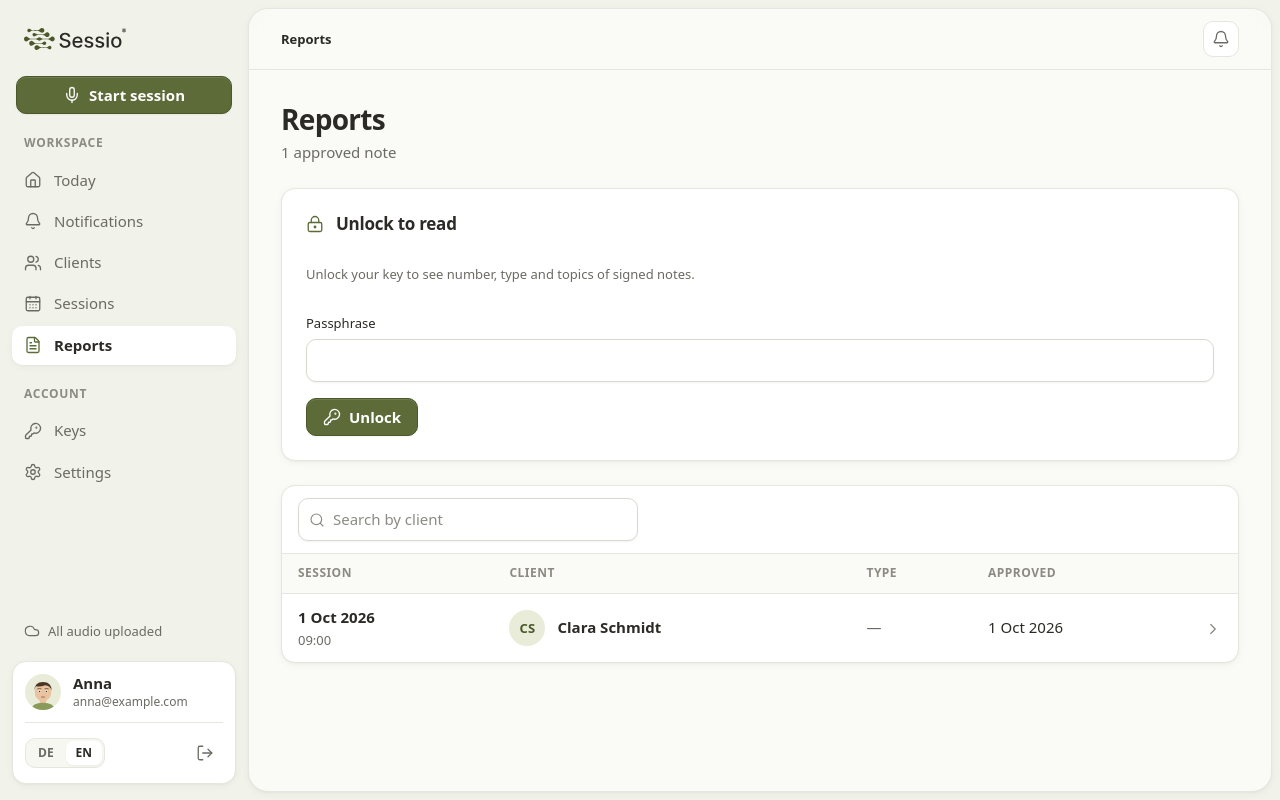
reports page › shows number, type and topics of a signed note only after unlocking
The width and height of the screenshot is (1280, 800).
Expected: the text "—" is shown, 850,593 -> 972,662
Expected: the text "Unlock your key to see number, type and topics" is shown, 306,264 -> 695,282
Step 1. Type "olive tree quiet harbour" into the password field labelled "Passphrase" → (760, 360), box 306,339 -> 1214,382
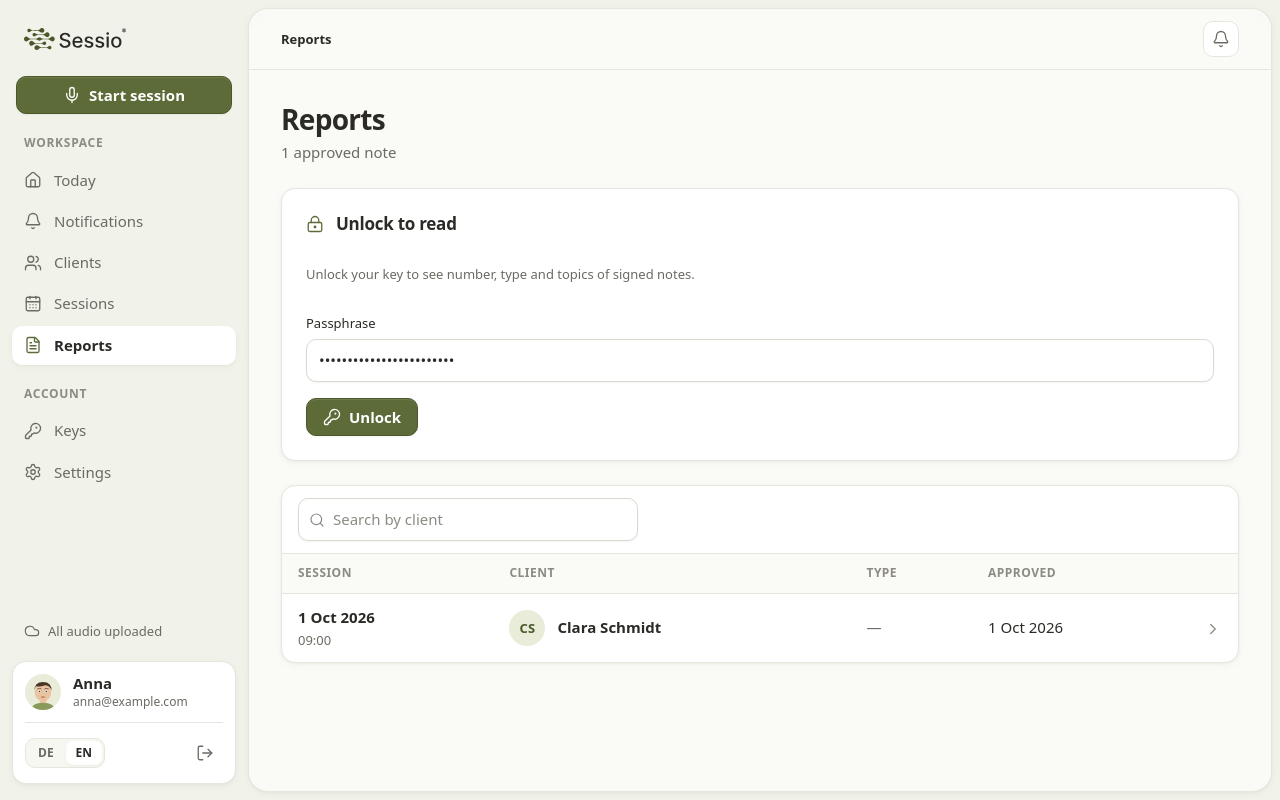
Step 2. Click the button "Unlock" → (362, 417), box 306,398 -> 418,436
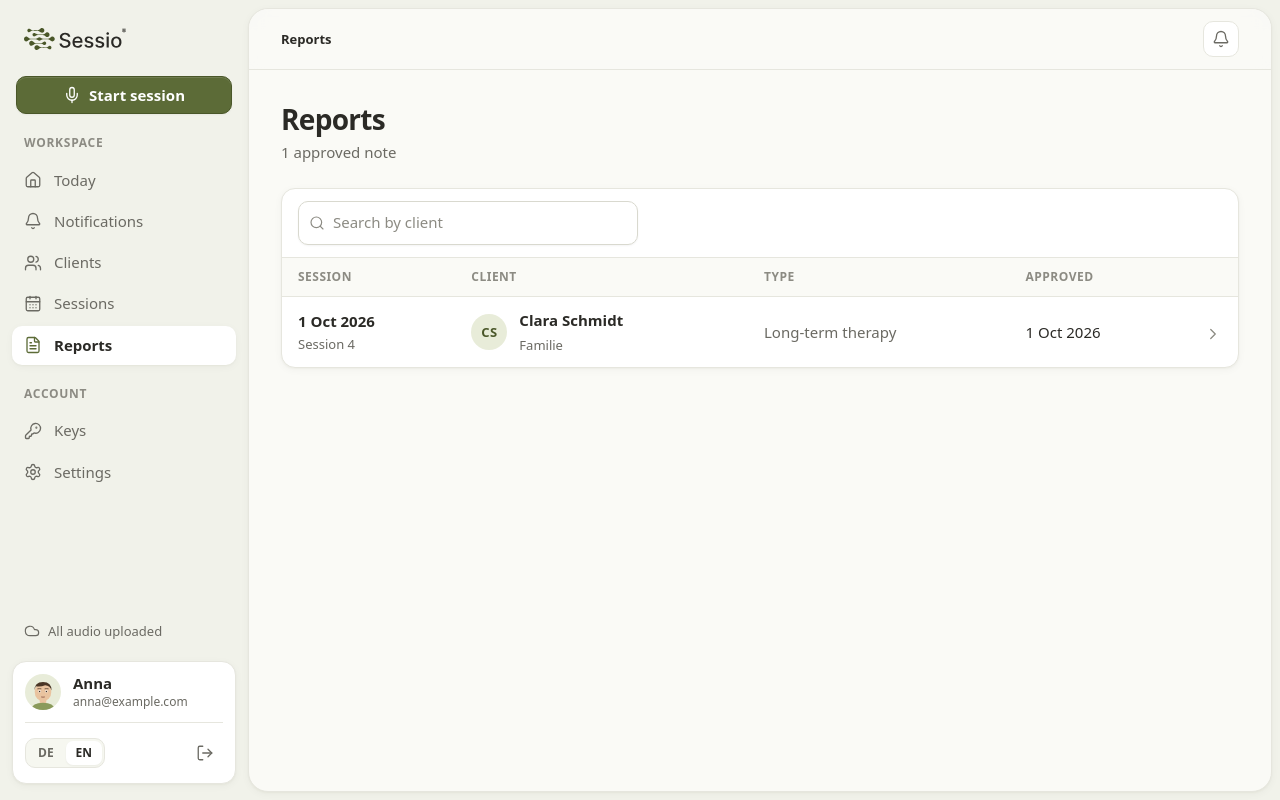
Now the text "Session 4" is shown, box 298,335 -> 355,353
Now the text "Long-term therapy" is shown, box 748,297 -> 1010,368
Now the text "Familie" is shown, box 519,336 -> 563,354
